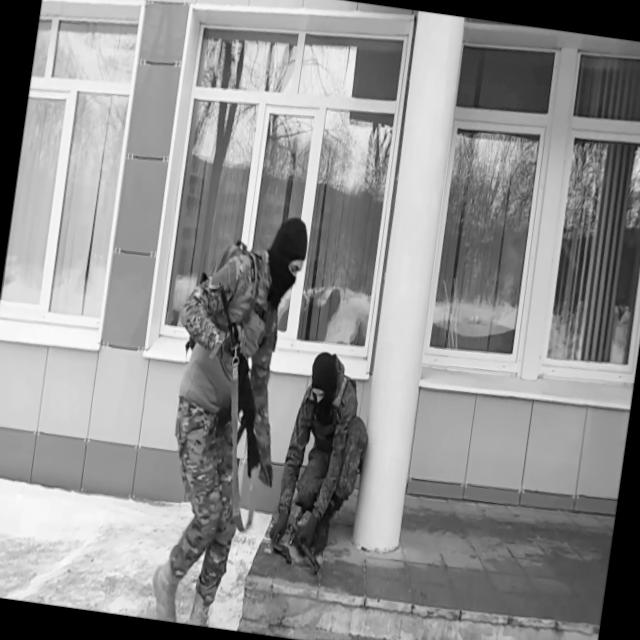gun: (192, 278, 288, 486), (278, 510, 328, 579), (270, 539, 296, 566)
person with a gun: (139, 202, 312, 634), (265, 346, 380, 580)
